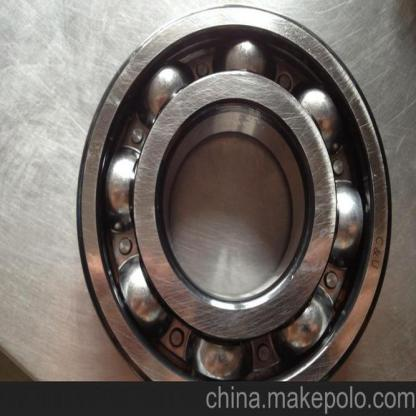FOD: (69, 0, 397, 415)
